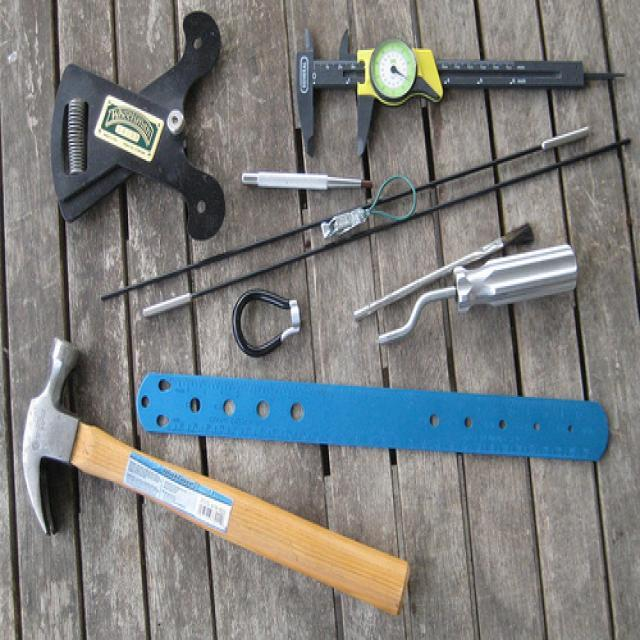hammer: (19, 328, 432, 632)
